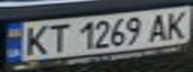1: (72, 19, 96, 51)
2: (93, 17, 112, 50)
6: (109, 16, 130, 48)
9: (124, 13, 148, 46)
A: (145, 10, 172, 43)
K: (18, 22, 54, 56), (160, 7, 193, 40)
T: (42, 20, 72, 54)
